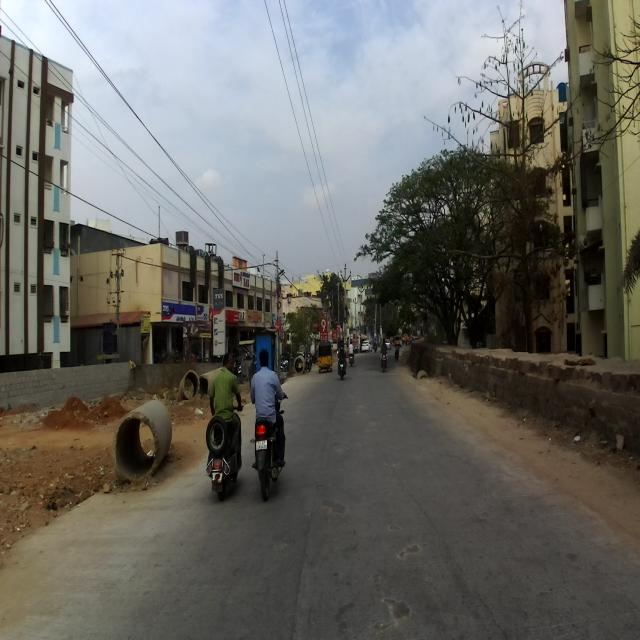barrier ahead at: (114, 392, 175, 487)
motorcycle ahead at: (205, 416, 241, 500), (253, 421, 286, 502)
